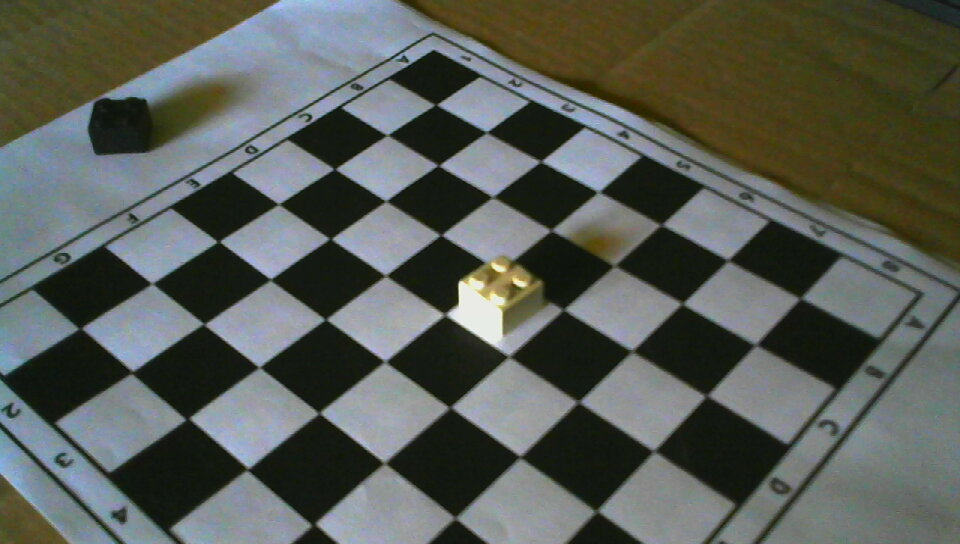bp: (87, 94, 154, 156)
wp: (456, 256, 543, 338)
